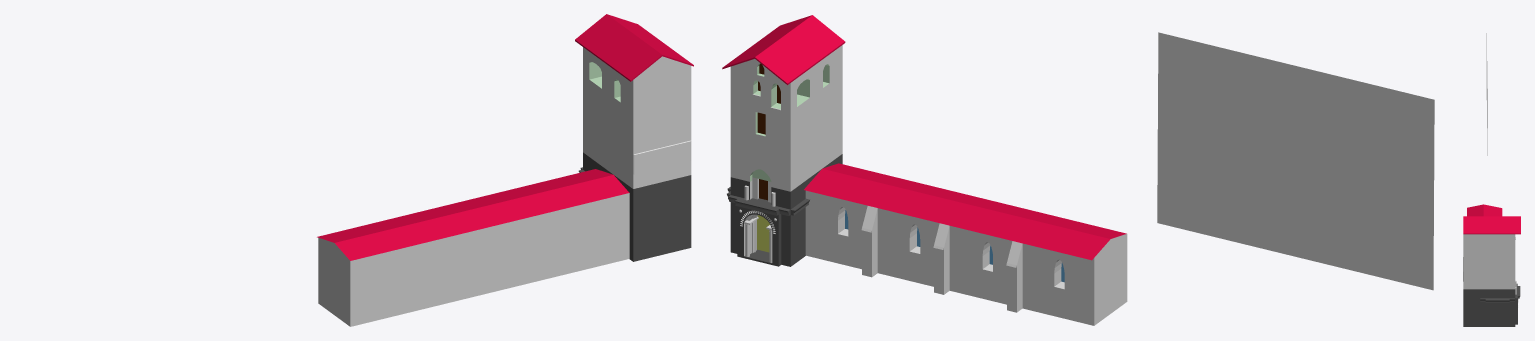
File: abbaye_gellone_Assemblé.glb
The picture shows the model from 3 angles, left to right: view 1: azimuth 30°, elevation 25°; view 2: azimuth 150°, elevation 25°; view 3: azimuth 270°, elevation 25°; orthographic projection. The views are drawn at different scales.
Visible parts, largest first — view 1: Cylinder.002; view 2: Cylinder.002, Plane; view 3: Cylinder.002, Plane.
Part boxes in pixels (<box>): Cylinder.002: <box>317,14,693,326</box>; Cylinder.002: <box>722,15,1127,325</box>; Plane: <box>1157,32,1434,290</box>; Cylinder.002: <box>1463,204,1520,326</box>; Plane: <box>1486,33,1487,155</box>.
Bounding box in the file's own units: 68.49 × 28.39 × 10.05.
